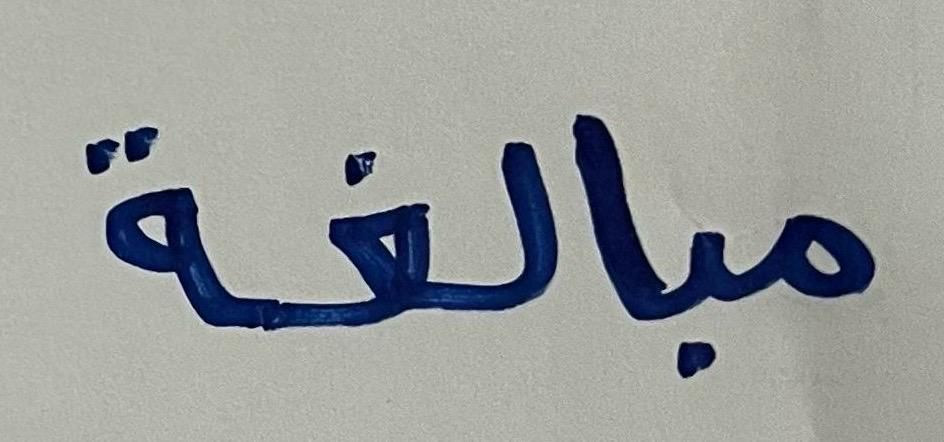alef: (567, 82, 656, 346)
beh: (662, 187, 741, 389)
ghain: (265, 81, 440, 364)
lam: (445, 84, 562, 340)
meem: (746, 177, 914, 346)
teh_marbota: (48, 74, 251, 352)
